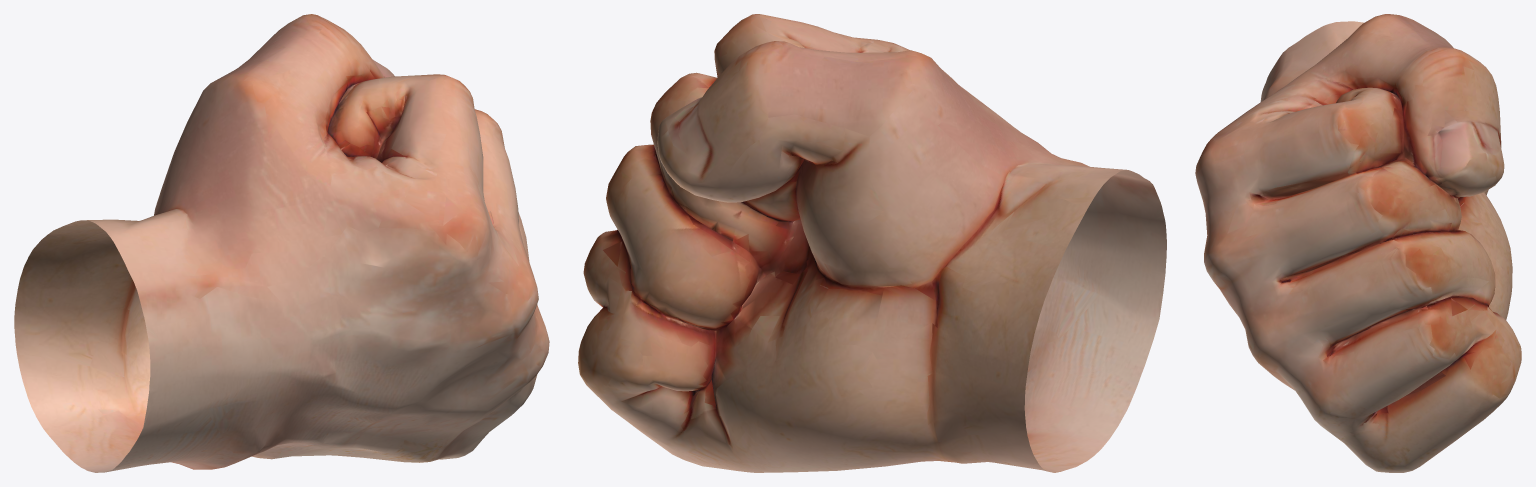
Rendered from fist_L.glb.
3 renders of one model, left to right at view 1: azimuth 30°, elevation 25°; view 2: azimuth 150°, elevation 25°; view 3: azimuth 270°, elevation 25°, orthographic. The views are drawn at different scales.
Visible parts, largest first — view 1: fist; view 2: fist; view 3: fist.
Part boxes in pixels (bbox=[...]): fist: bbox=[14, 14, 549, 472]; fist: bbox=[578, 14, 1166, 472]; fist: bbox=[1195, 14, 1521, 472].
Bounding box in the file's own units: 0.1332 × 0.1231 × 0.0958.
Materials: 1 (1 with a texture image).
